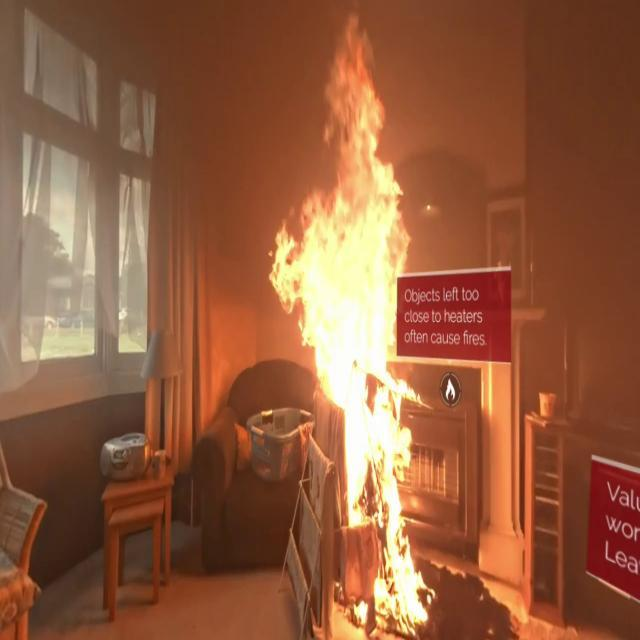Fire: (268, 21, 430, 624)
